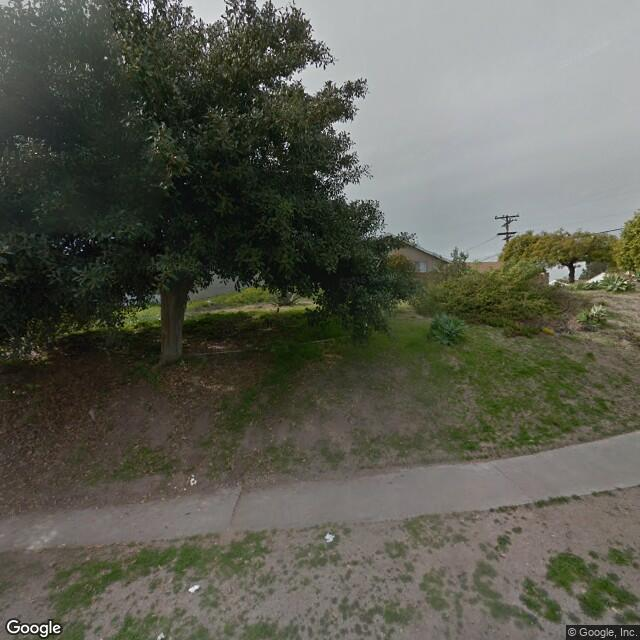litter: (179, 475, 208, 493), (154, 628, 173, 640), (185, 583, 203, 595), (324, 533, 335, 542)
